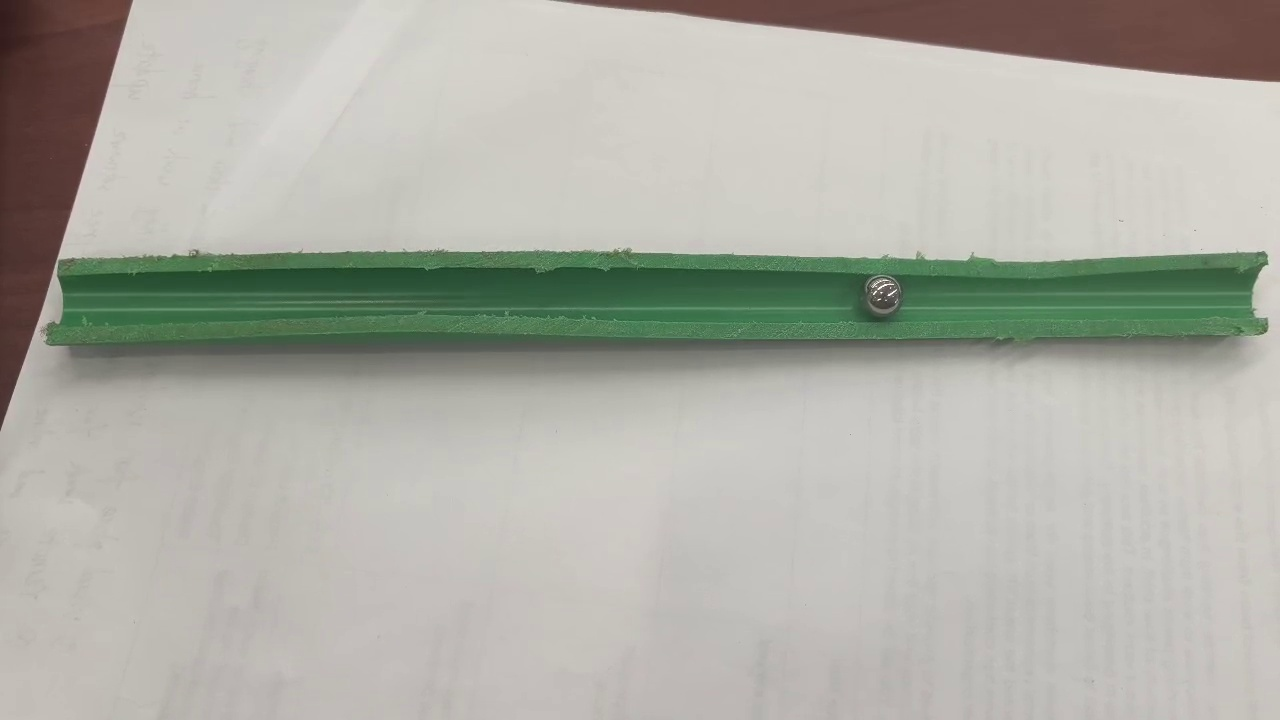ball: (865, 277, 902, 316)
